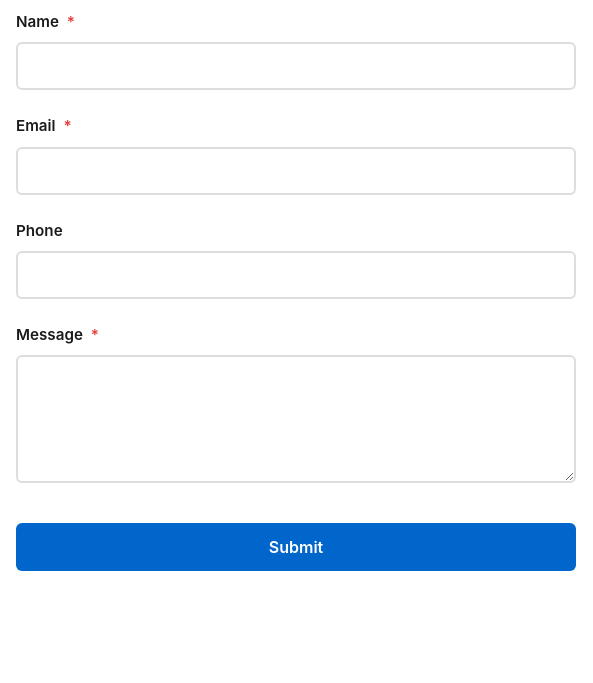
Scenario: Contact_Form › Validation for required fields › shows error when name is empty on submit
Click the button "Submit" at (296, 547), box [16,523,576,571]
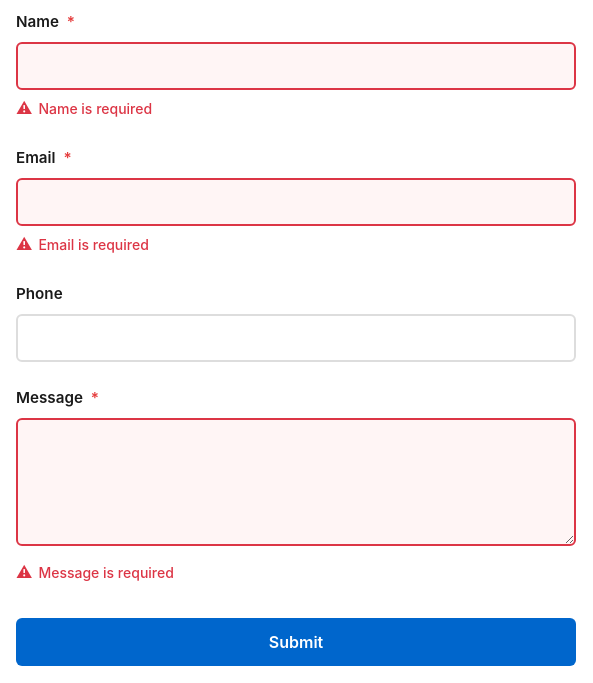
Check: the text "Name is required" is shown, box [38,100,152,117]
